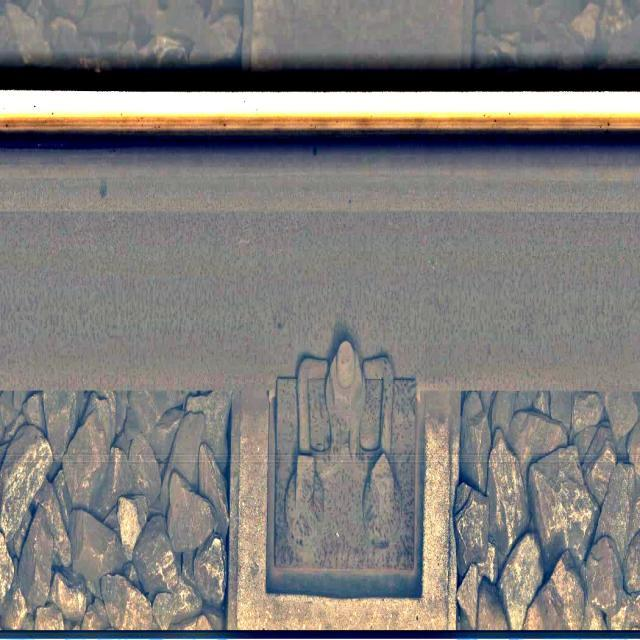Good Fasteners: (267, 340, 424, 598)
